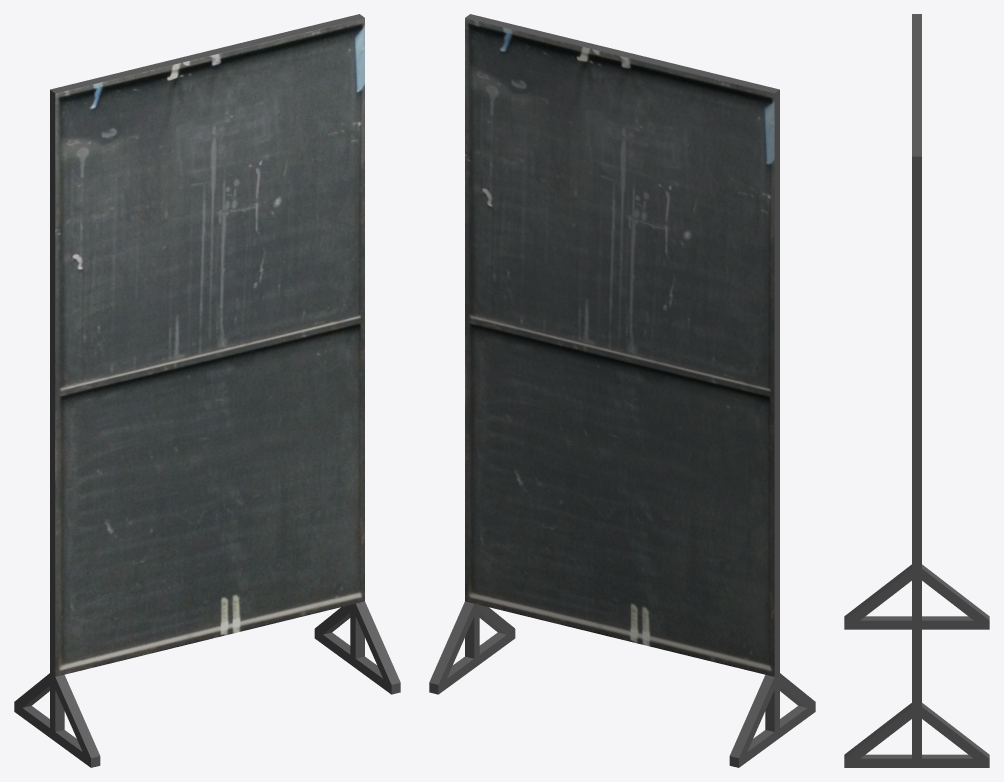
Rendered from metal_panel.dae.
The picture shows the model from 3 angles, left to right: view 1: azimuth 30°, elevation 25°; view 2: azimuth 150°, elevation 25°; view 3: azimuth 270°, elevation 25°; orthographic projection. The views are drawn at different scales.
Visible parts, largest first — view 1: instance_0 (×2); view 2: instance_0 (×2); view 3: instance_0.
Boxes of the visible parts, box(x1,y1,x2,y2) form: instance_0 (×2): box(14, 14, 400, 767); instance_0 (×2): box(429, 14, 815, 767); instance_0: box(844, 14, 989, 767).
Bounding box in the file's own units: 39.37 × 16.93 × 78.74.
Materials: 3 (1 with a texture image).
